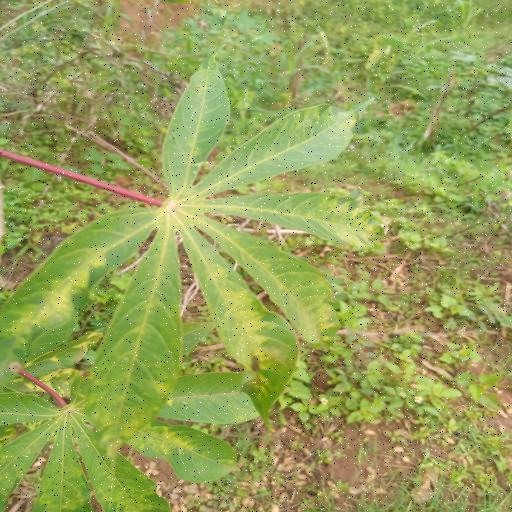Cassava_Mosaic: (5, 58, 390, 447), (6, 320, 272, 512)
